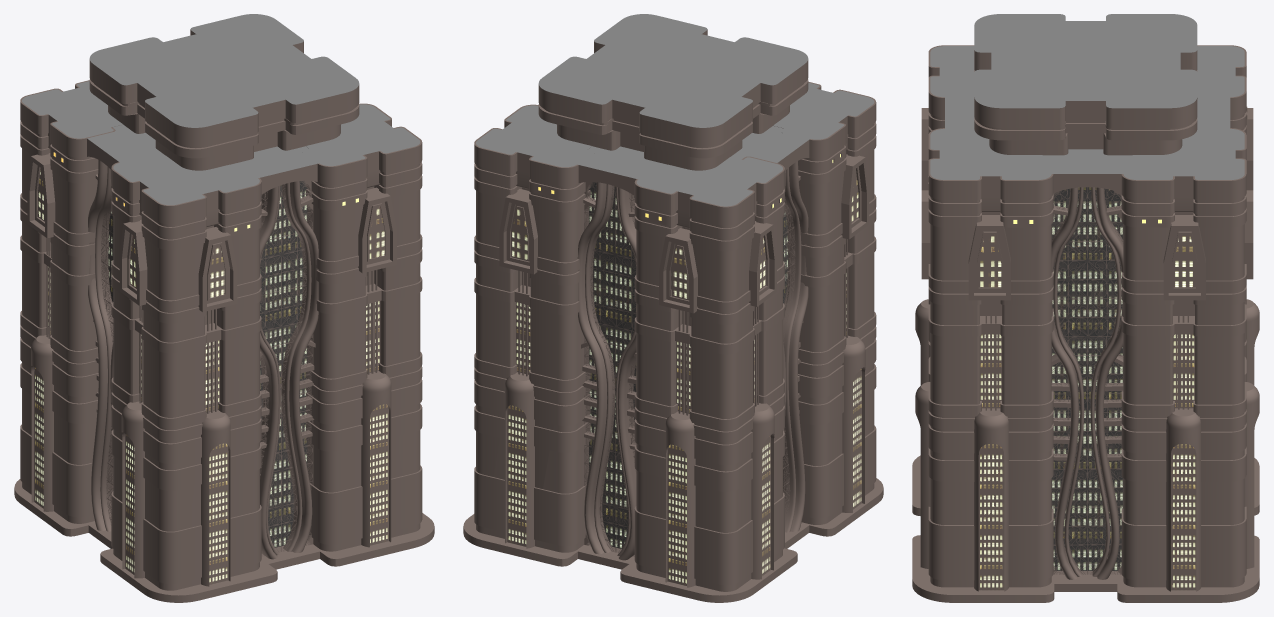
File: hosnian_prime_skyscraper__star_wars.glb
The picture shows the model from 3 angles, left to right: view 1: azimuth 30°, elevation 25°; view 2: azimuth 150°, elevation 25°; view 3: azimuth 270°, elevation 25°; orthographic projection. The views are drawn at different scales.
Parts seen in each view (by area): view 1: Skyscraper1.001_0; view 2: Skyscraper1.001_0; view 3: Skyscraper1.001_0.
Boxes of the visible parts, x1,y1,x2,y2 form: Skyscraper1.001_0: (14, 14, 434, 602); Skyscraper1.001_0: (463, 14, 883, 602); Skyscraper1.001_0: (912, 14, 1259, 602).
Bounding box in the file's own units: 2.7 × 3.98 × 2.68.
Materials: 6 (1 with a texture image).
